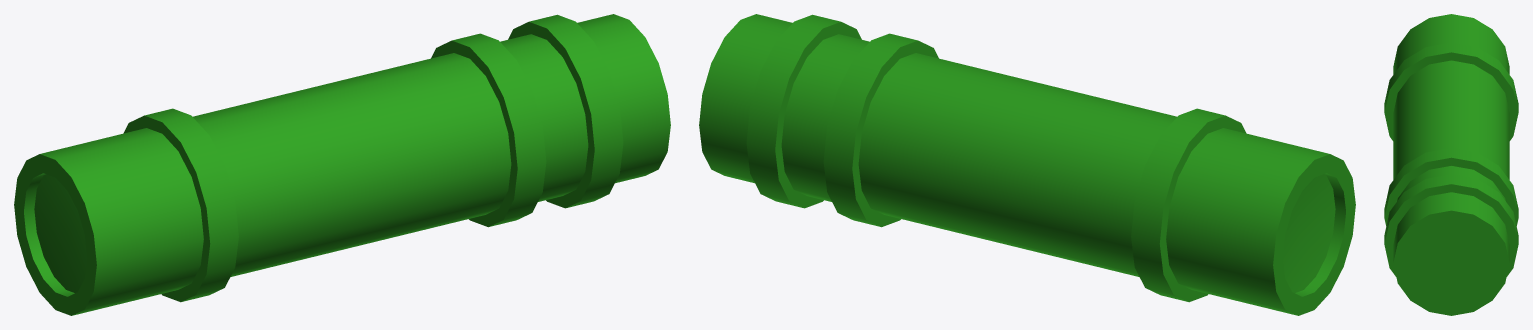
The model's file is laser point.fbx.
3 renders of one model, left to right at view 1: azimuth 30°, elevation 25°; view 2: azimuth 150°, elevation 25°; view 3: azimuth 270°, elevation 25°, orthographic. The views are drawn at different scales.
Parts seen in each view (by area): view 1: Cylinder001; view 2: Cylinder001; view 3: Cylinder001.
Part boxes in pixels (x1,y1,x2,y2): Cylinder001: [14, 14, 670, 315]; Cylinder001: [699, 14, 1355, 315]; Cylinder001: [1384, 14, 1518, 315].
Size of the model in its own units: 6.25 by 1.8 by 1.8.
